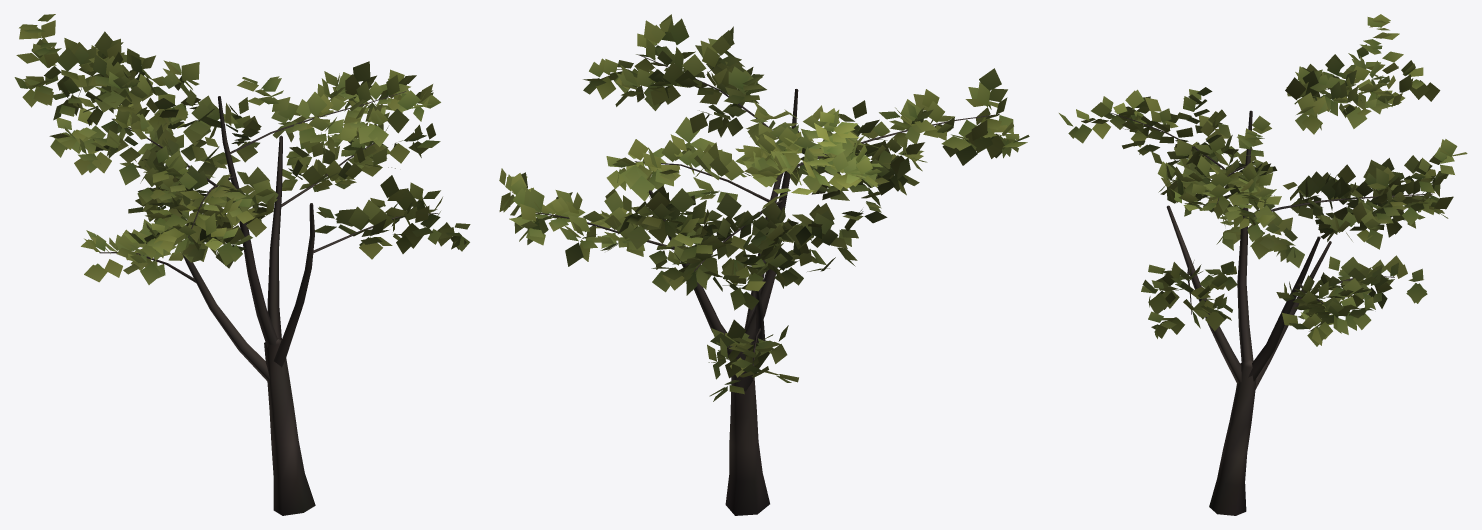
File: acacia-a.lod1.glb
3 renders of one model, left to right at view 1: azimuth 30°, elevation 25°; view 2: azimuth 150°, elevation 25°; view 3: azimuth 270°, elevation 25°, orthographic. The views are drawn at different scales.
Size of the model in its own units: 6.3 by 7.07 by 6.22.
